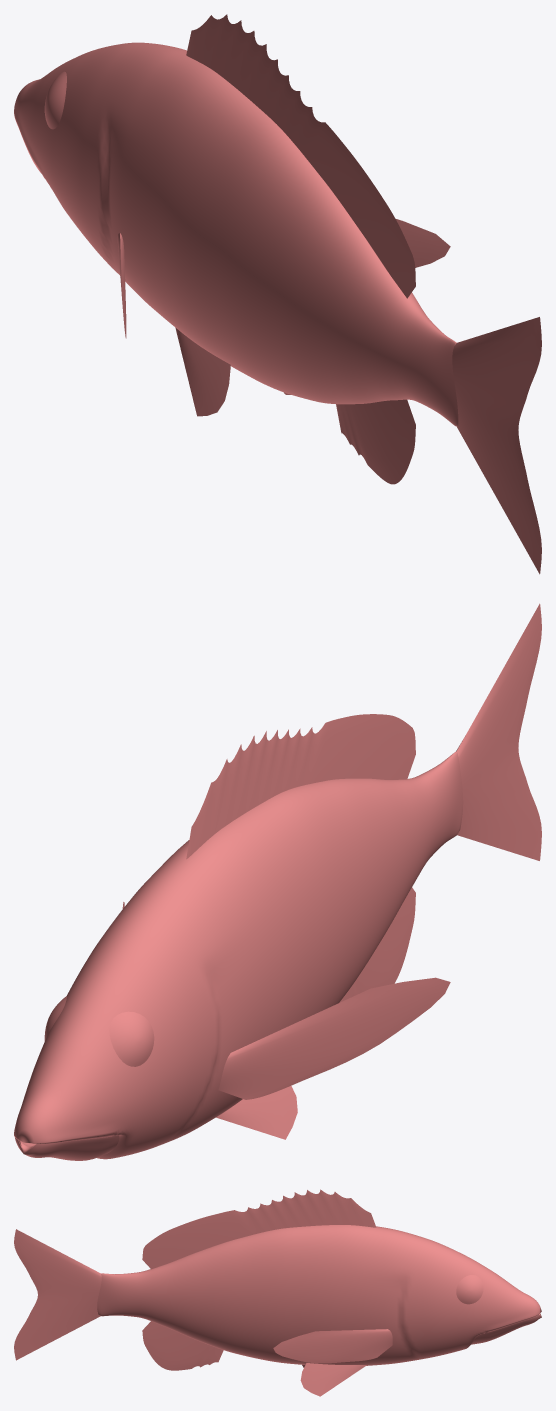
Rendered from snapper.glb.
3 renders of one model, top to bottom at view 1: azimuth 30°, elevation 25°; view 2: azimuth 150°, elevation 25°; view 3: azimuth 270°, elevation 25°, orthographic. The views are drawn at different scales.
Parts seen in each view (by area): view 1: snapper; view 2: snapper; view 3: snapper.
Boxes of the visible parts, x1,y1,x2,y2 form: snapper: (14,14,541,574); snapper: (14,603,541,1160); snapper: (14,1189,541,1396).
Bounding box in the file's own units: 0.2554 × 0.2884 × 0.7026.
